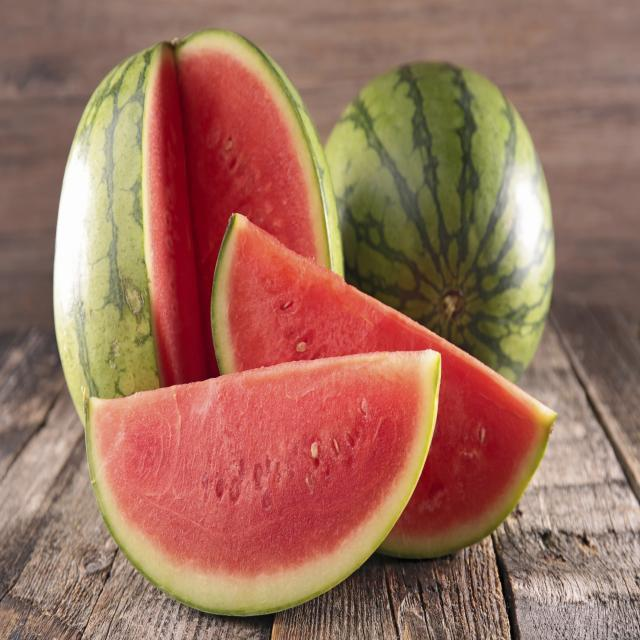WATERMELON: (53, 32, 357, 446), (217, 205, 557, 557), (83, 348, 440, 616), (322, 64, 554, 392)
